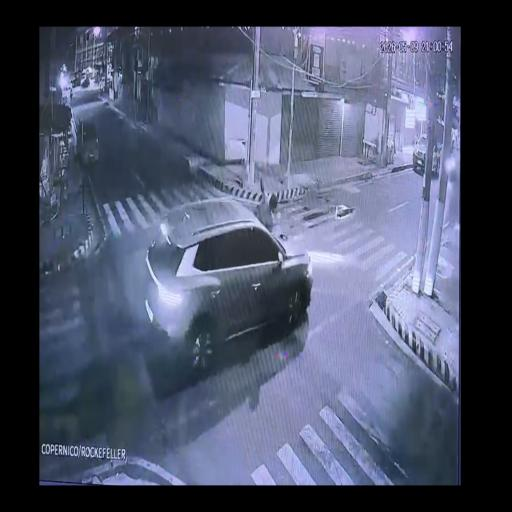Car: (161, 203, 308, 349)
Minor Accident: (160, 194, 309, 353)
Motor: (247, 197, 286, 234)
